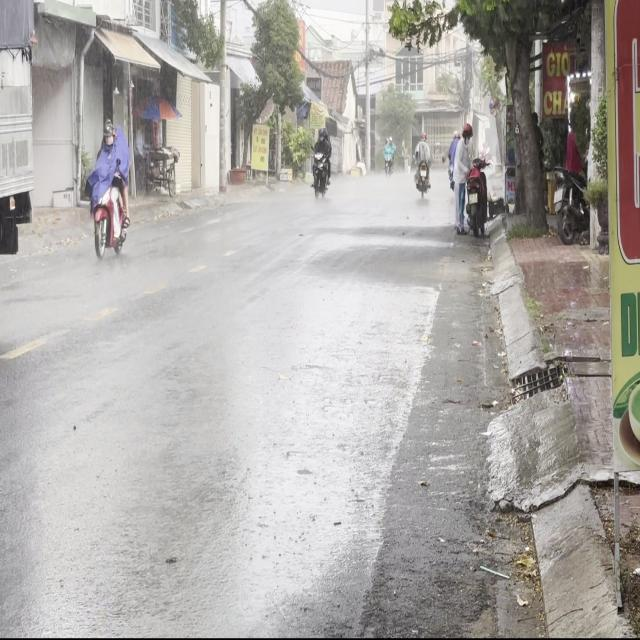helmet: (101, 120, 114, 147)
licenseplate: (86, 117, 131, 262)
